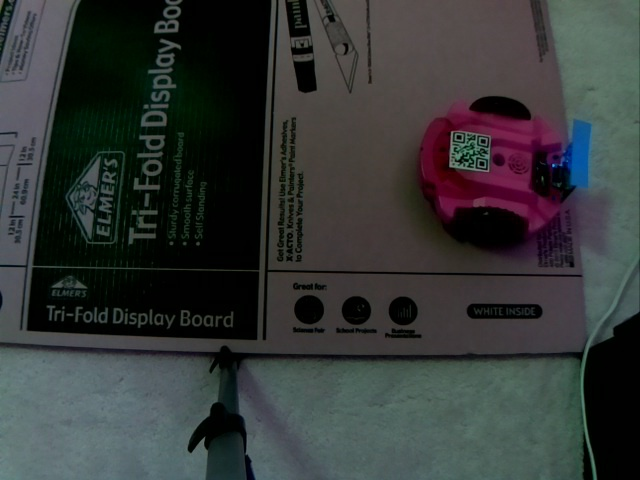chassis: (415, 94, 594, 248)
qr: (448, 127, 494, 176)
